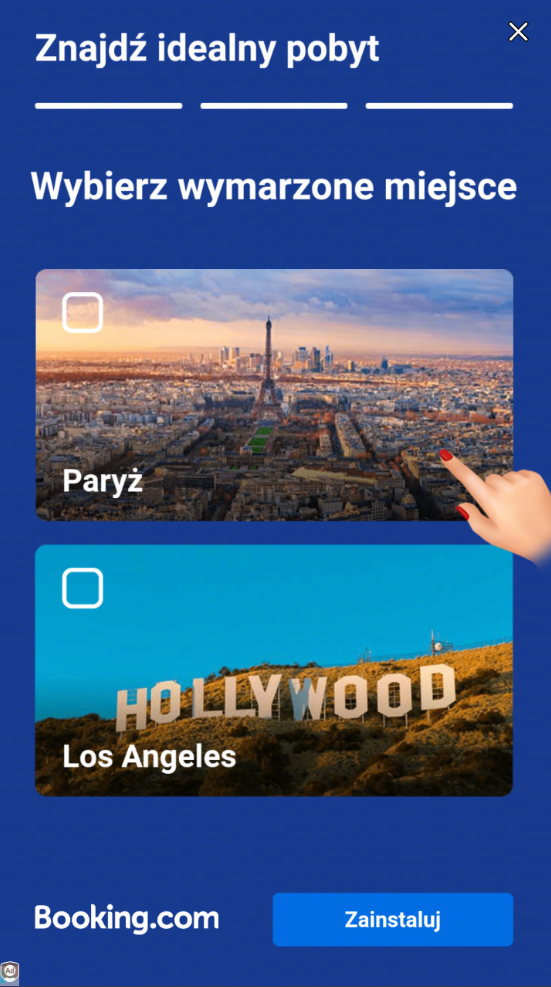close_button: (506, 17, 533, 46)
